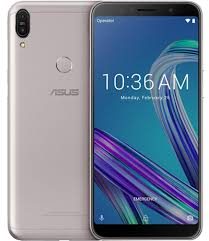asus: (85, 1, 203, 239), (5, 1, 92, 239)
